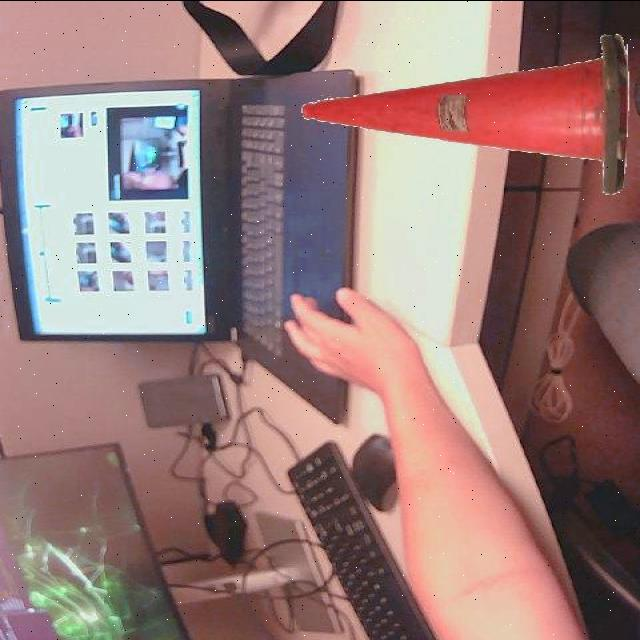traffic cone: (293, 27, 640, 205)
